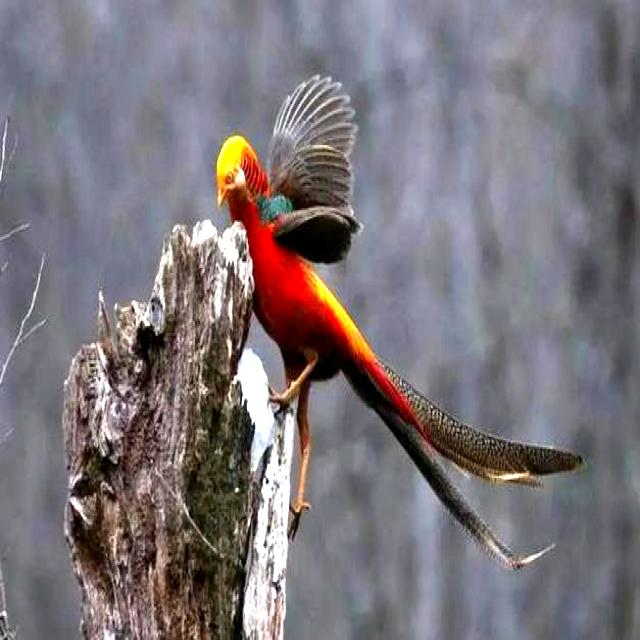Chrysolophus pictus feather: (345, 357, 584, 570)
